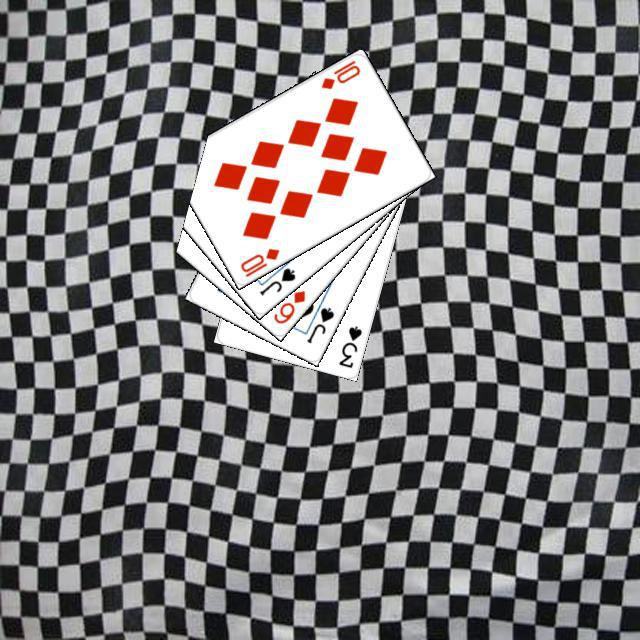10d: (235, 243, 281, 279), (316, 55, 362, 91)
3s: (334, 321, 364, 370)
6d: (269, 286, 307, 326)
Js: (302, 302, 336, 345), (254, 263, 297, 297)
